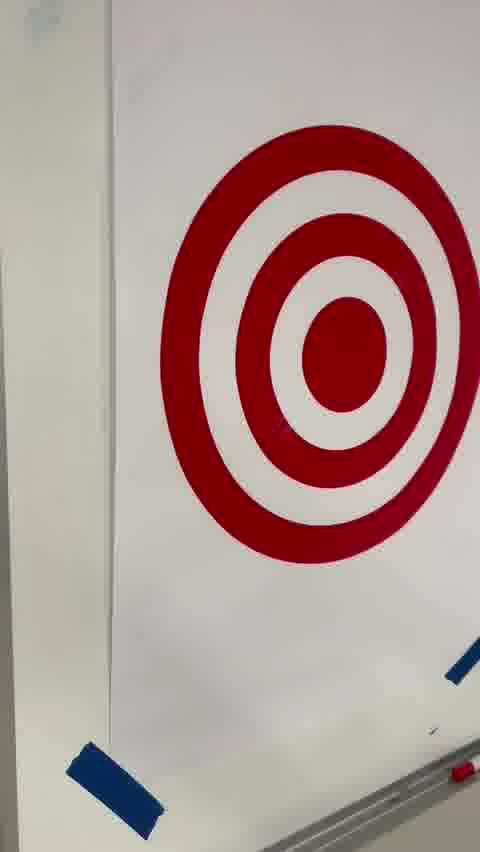target_red: (160, 122, 475, 562)
